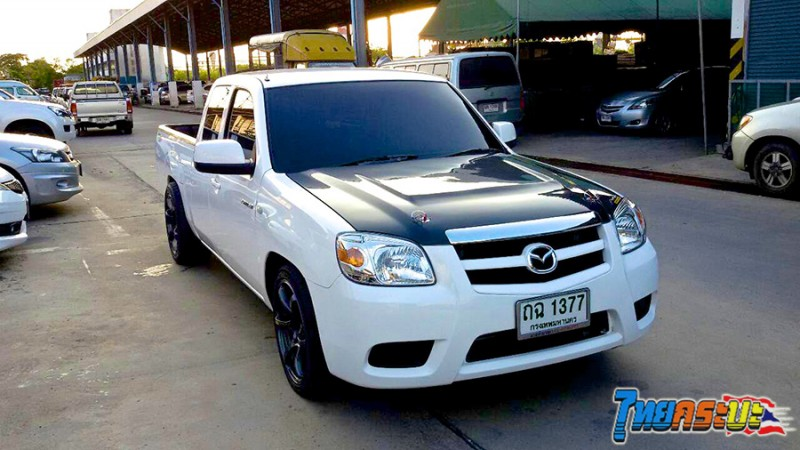pickup: (152, 66, 659, 395)
